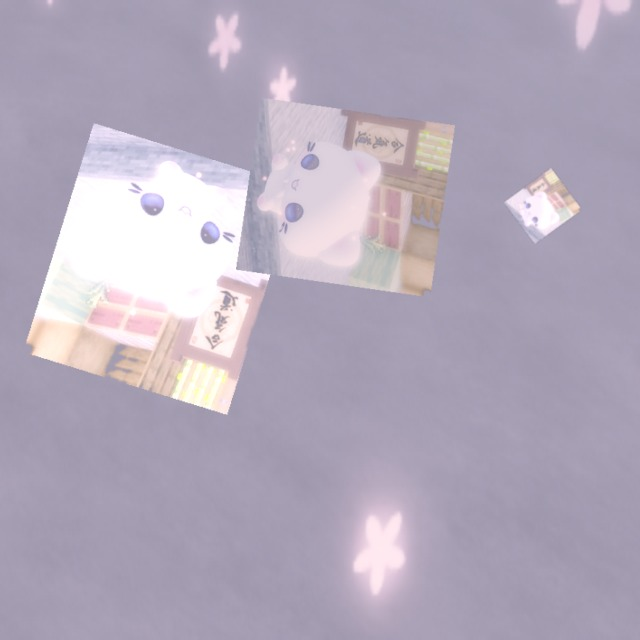urso_branco: (23, 123, 298, 415), (236, 97, 455, 298), (504, 168, 582, 244)
